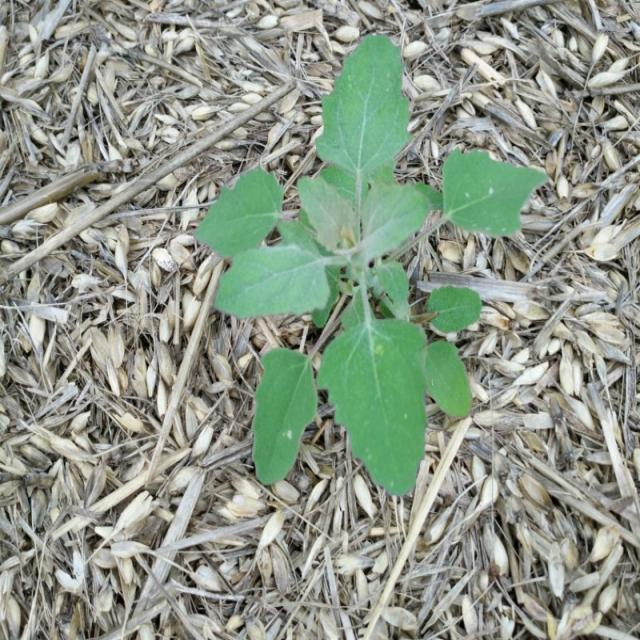goosefoots: (176, 36, 550, 538)
